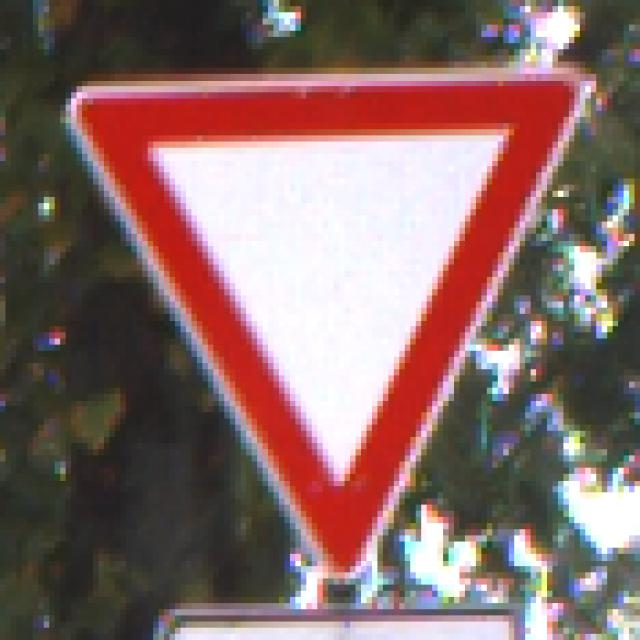Give Way: (61, 57, 586, 586)
